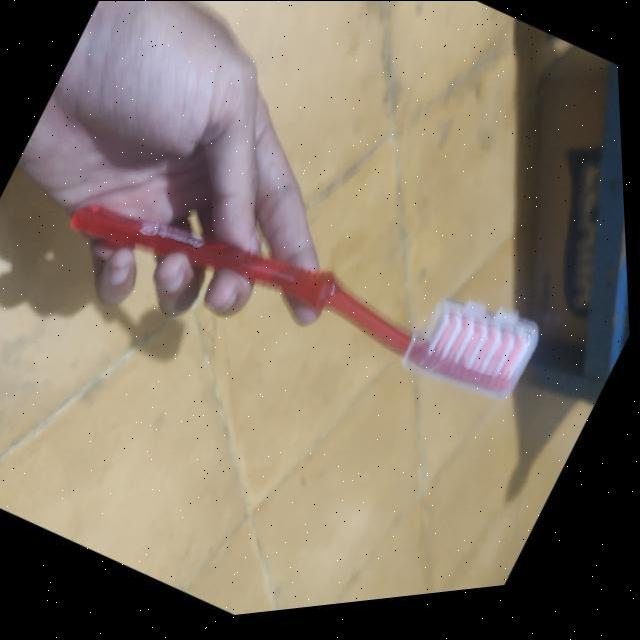toothbrush: (37, 80, 575, 528)
